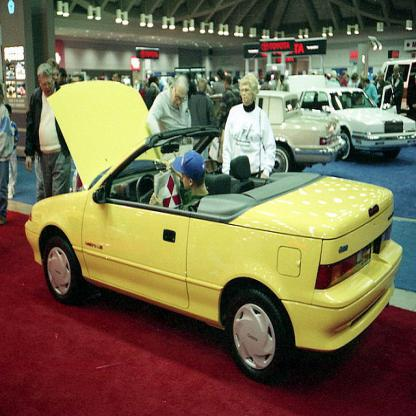Vehicle: (25, 82, 403, 384)
